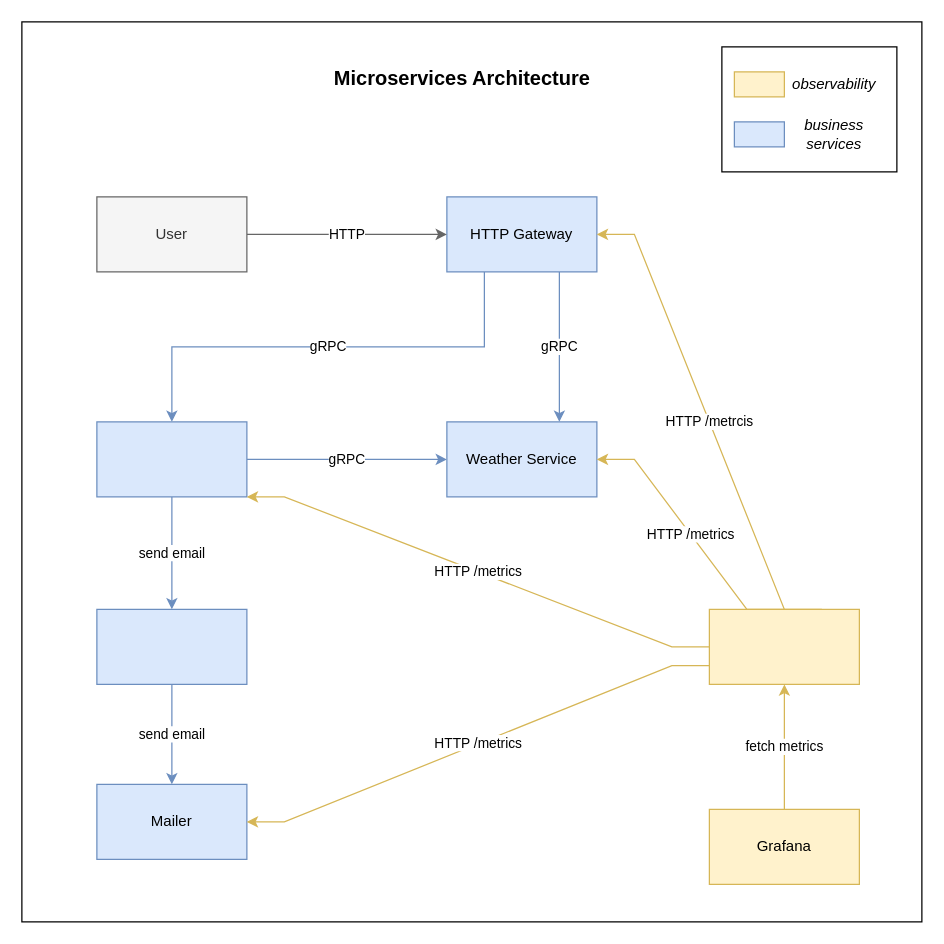
The diagram is 944 pixels wide and 944 high, and some of its shapes have lost their labels. Here are the shapes that lost their labels. From the top down, the centre of each, then its label:
(171,459): Subscription Service
(171,646): Message Broker
(783,646): Prometheus
